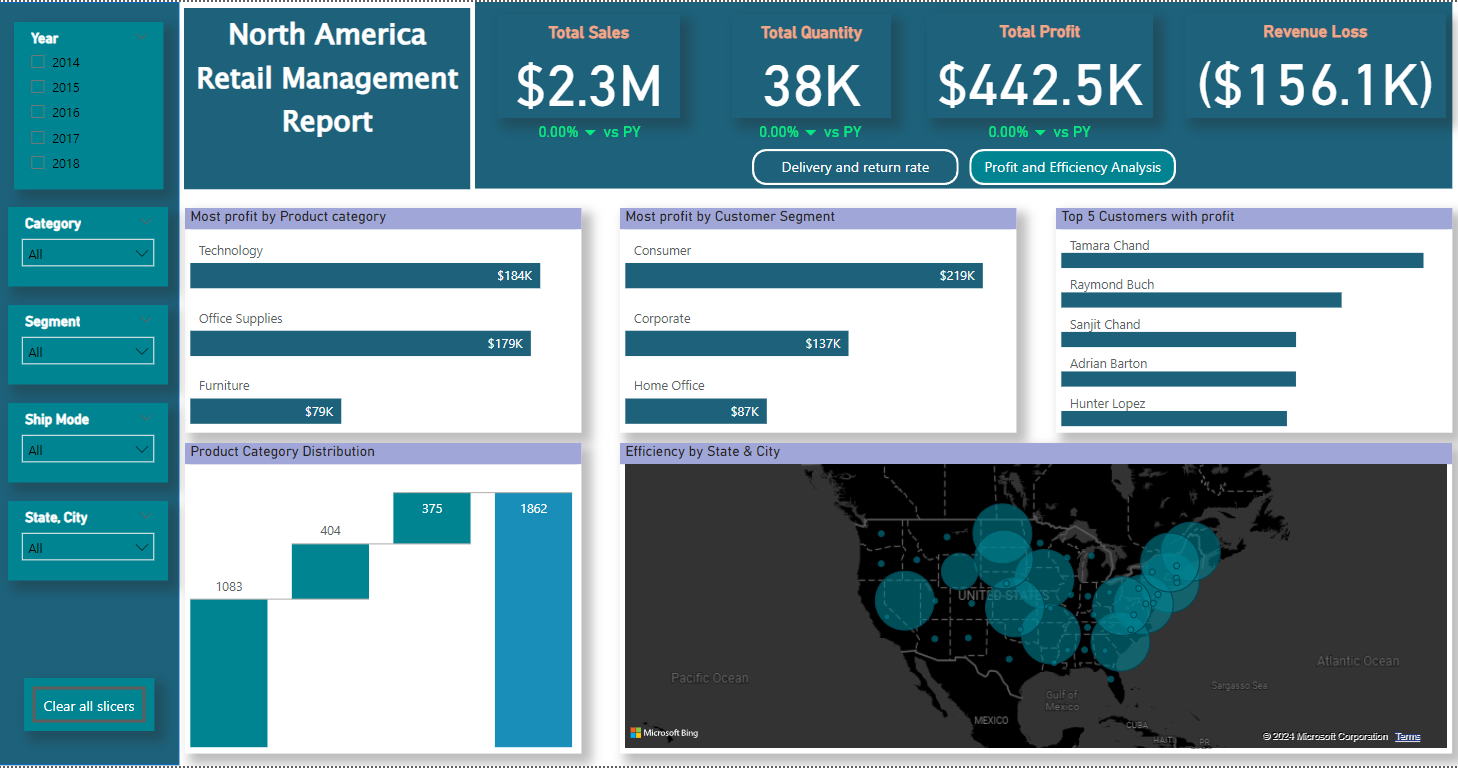

Layout of this report page (visuals, bound fields, positions):
{"tool":"powerbi","page":{"name":"Profit and Efficiency Analysis","canvas":[1400,720],"ordinal":1},"visuals":[{"type":"shape","box":[450.1,0,922.2,176.4],"z":0},{"type":"card","title":"Total Sales","fields":{"Values":["_measure table.total sales"]},"box":[471,11,173,98],"z":1000},{"type":"card","title":"Total Quantity","fields":{"Values":["_measure table.Total quantity"]},"box":[692,11,150,98],"z":2000},{"type":"card","title":"Total Profit","fields":{"Values":["_measure table.Total profit"]},"box":[876,10,213,99],"z":3000},{"type":"card","title":"Revenue Loss","fields":{"Values":["_measure table.Revenue Loss"]},"box":[1120,10,246,99],"z":4000},{"type":"clusteredBarChart","title":"Most profit by Product category","fields":{"Category":["dim_products.Category"],"Y":["_measure table.label","_measure table.Total profit"]},"box":[176,194,374,212],"z":5000},{"type":"shape","box":[0,0,171,720],"z":7000},{"type":"slicer","fields":{"Values":["Calendar Table.Year"]},"box":[15.2,18.8,141.5,157.6],"z":8000},{"type":"slicer","fields":{"Values":["dim_products.Category"]},"box":[9.9,193.7,151.3,75.2],"z":9000},{"type":"slicer","fields":{"Values":["dim_customer.Segment"]},"box":[9.9,286.1,151.3,75.2],"z":10000},{"type":"slicer","fields":{"Values":["fact_retaildata.Ship Mode"]},"box":[9.9,378.6,151.3,75.2],"z":11000},{"type":"slicer","fields":{"Values":["dim_location.State","dim_location.City"]},"box":[9.9,471,151.3,75.2],"z":12000},{"type":"actionButton","box":[24.2,637.6,122.7,50.1],"z":13000},{"type":"textbox","box":[175.5,5.4,270.4,171],"z":14000},{"type":"clusteredBarChart","title":"Most profit by Customer Segment","fields":{"Category":["dim_customer.Segment"],"Y":["_measure table.label","_measure table.Total profit"]},"box":[587,194,374,212],"z":15000},{"type":"clusteredBarChart","title":"Top 5 Customers with profit","fields":{"Category":["dim_customer.Customer Name"],"Y":["_measure table.label","_measure table.Total profit"]},"box":[998,194,374,212],"z":16000},{"type":"card","fields":{"Values":["_measure table.Sales Indicator"]},"box":[496,109,124,28],"z":17000},{"type":"card","fields":{"Values":["_measure table.Quantity Indicator"]},"box":[704,109,125,28],"z":17001},{"type":"card","fields":{"Values":["_measure table.Profit Indicator"]},"box":[921,109,124,28],"z":17002},{"type":"waterfallChart","title":"Product Category Distribution","fields":{"Category":["dim_products.Category"],"Y":["_measure table.total products"]},"box":[176,416,374,293],"z":17003},{"type":"map","title":"Efficiency by State & City","fields":{"Category":["dim_location.State","dim_location.City"],"Size":["_measure table.efficiency %"]},"box":[587,416,785,293],"z":17004},{"type":"pageNavigator","box":[711,139,400,34],"z":17005}]}

Visuals, with their boxes in screenshot pixels (x1, y1, x2, y2), scaled from the page's 1400x720 canvas onto the 1458x768 screenshot:
shape: 469 0 1429 188
"Total Sales" card: 491 12 671 116
"Total Quantity" card: 721 12 877 116
"Total Profit" card: 912 11 1134 116
"Revenue Loss" card: 1166 11 1423 116
"Most profit by Product category" clusteredBarChart: 183 207 573 433
shape: 0 0 178 767
slicer - Calendar Table.Year: 16 20 163 188
slicer - dim_products.Category: 10 207 168 287
slicer - dim_customer.Segment: 10 305 168 385
slicer - fact_retaildata.Ship Mode: 10 404 168 484
slicer - dim_location.State x dim_location.City: 10 502 168 583
actionButton: 25 680 153 734
textbox: 183 6 464 188
"Most profit by Customer Segment" clusteredBarChart: 611 207 1001 433
"Top 5 Customers with profit" clusteredBarChart: 1039 207 1429 433
card - _measure table.Sales Indicator: 517 116 646 146
card - _measure table.Quantity Indicator: 733 116 863 146
card - _measure table.Profit Indicator: 959 116 1088 146
"Product Category Distribution" waterfallChart: 183 444 573 756
"Efficiency by State & City" map: 611 444 1429 756
pageNavigator: 740 148 1157 185
